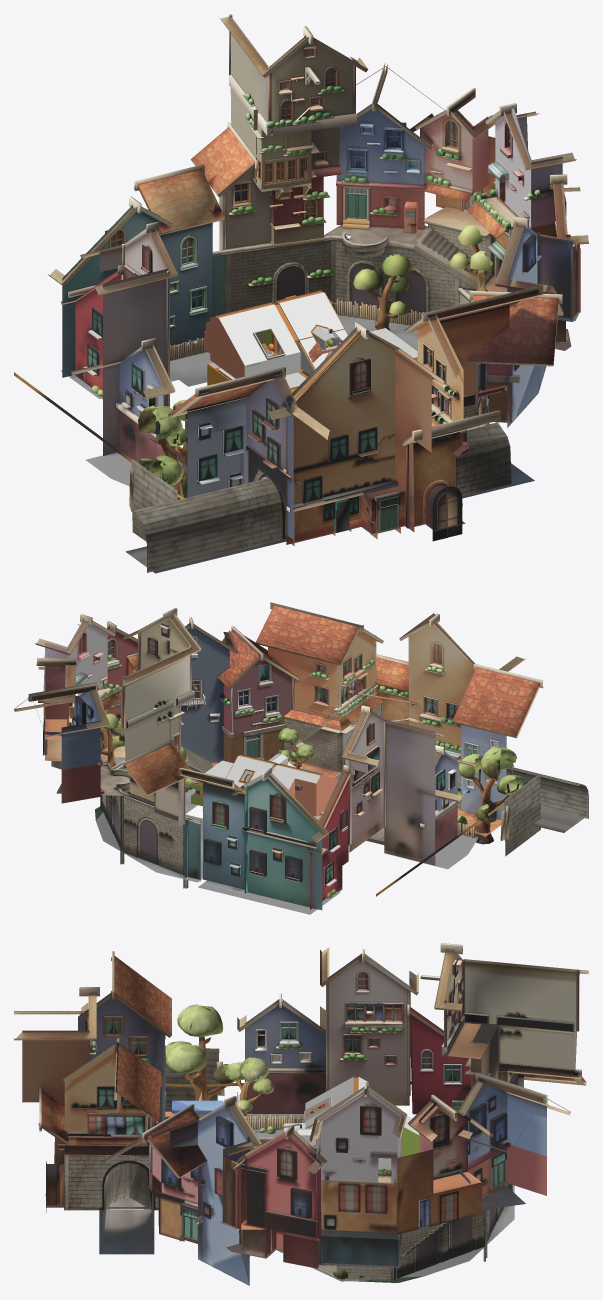
The model's file is house.glb.
3 renders of one model, top to bottom at view 1: azimuth 30°, elevation 25°; view 2: azimuth 150°, elevation 25°; view 3: azimuth 270°, elevation 25°, orthographic. The views are drawn at different scales.
Visible parts, largest first — view 1: m_m_street_382927, m_ColorForAll_1f8a55, m_m_street_grass_a756ad, m_ColorForAllTextured Wood_ad48a4; view 2: m_m_street_382927, m_ColorForAll_1f8a55, m_m_street_grass_a756ad; view 3: m_m_street_382927, m_ColorForAll_1f8a55, m_m_street_grass_a756ad, m_m_street_props_24a74b.
Part boxes in pixels (left/top/right/bottom): m_m_street_382927: left=14, top=14, right=588, bottom=573; m_ColorForAll_1f8a55: left=204, top=292, right=417, bottom=392; m_m_street_grass_a756ad: left=60, top=315, right=417, bottom=486; m_ColorForAllTextured Wood_ad48a4: left=207, top=290, right=417, bottom=389; m_m_street_382927: left=14, top=602, right=588, bottom=910; m_ColorForAll_1f8a55: left=191, top=754, right=338, bottom=820; m_m_street_grass_a756ad: left=96, top=788, right=478, bottom=914; m_m_street_382927: left=14, top=943, right=588, bottom=1285; m_ColorForAll_1f8a55: left=284, top=1077, right=418, bottom=1169; m_m_street_grass_a756ad: left=247, top=1113, right=514, bottom=1281; m_m_street_props_24a74b: left=172, top=1100, right=222, bottom=1117.
Bounding box in the file's own units: 46.4 × 26.93 × 45.58.
Materials: 32 (31 with a texture image).
